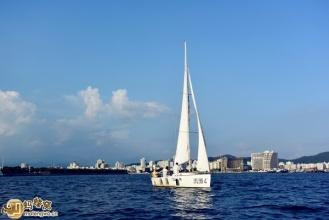fanchuan: (152, 42, 213, 187)
